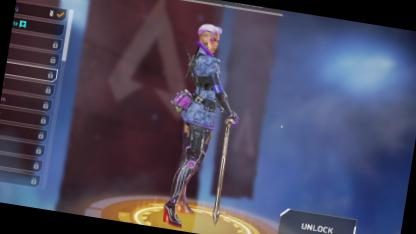Target: (166, 19, 236, 192)
